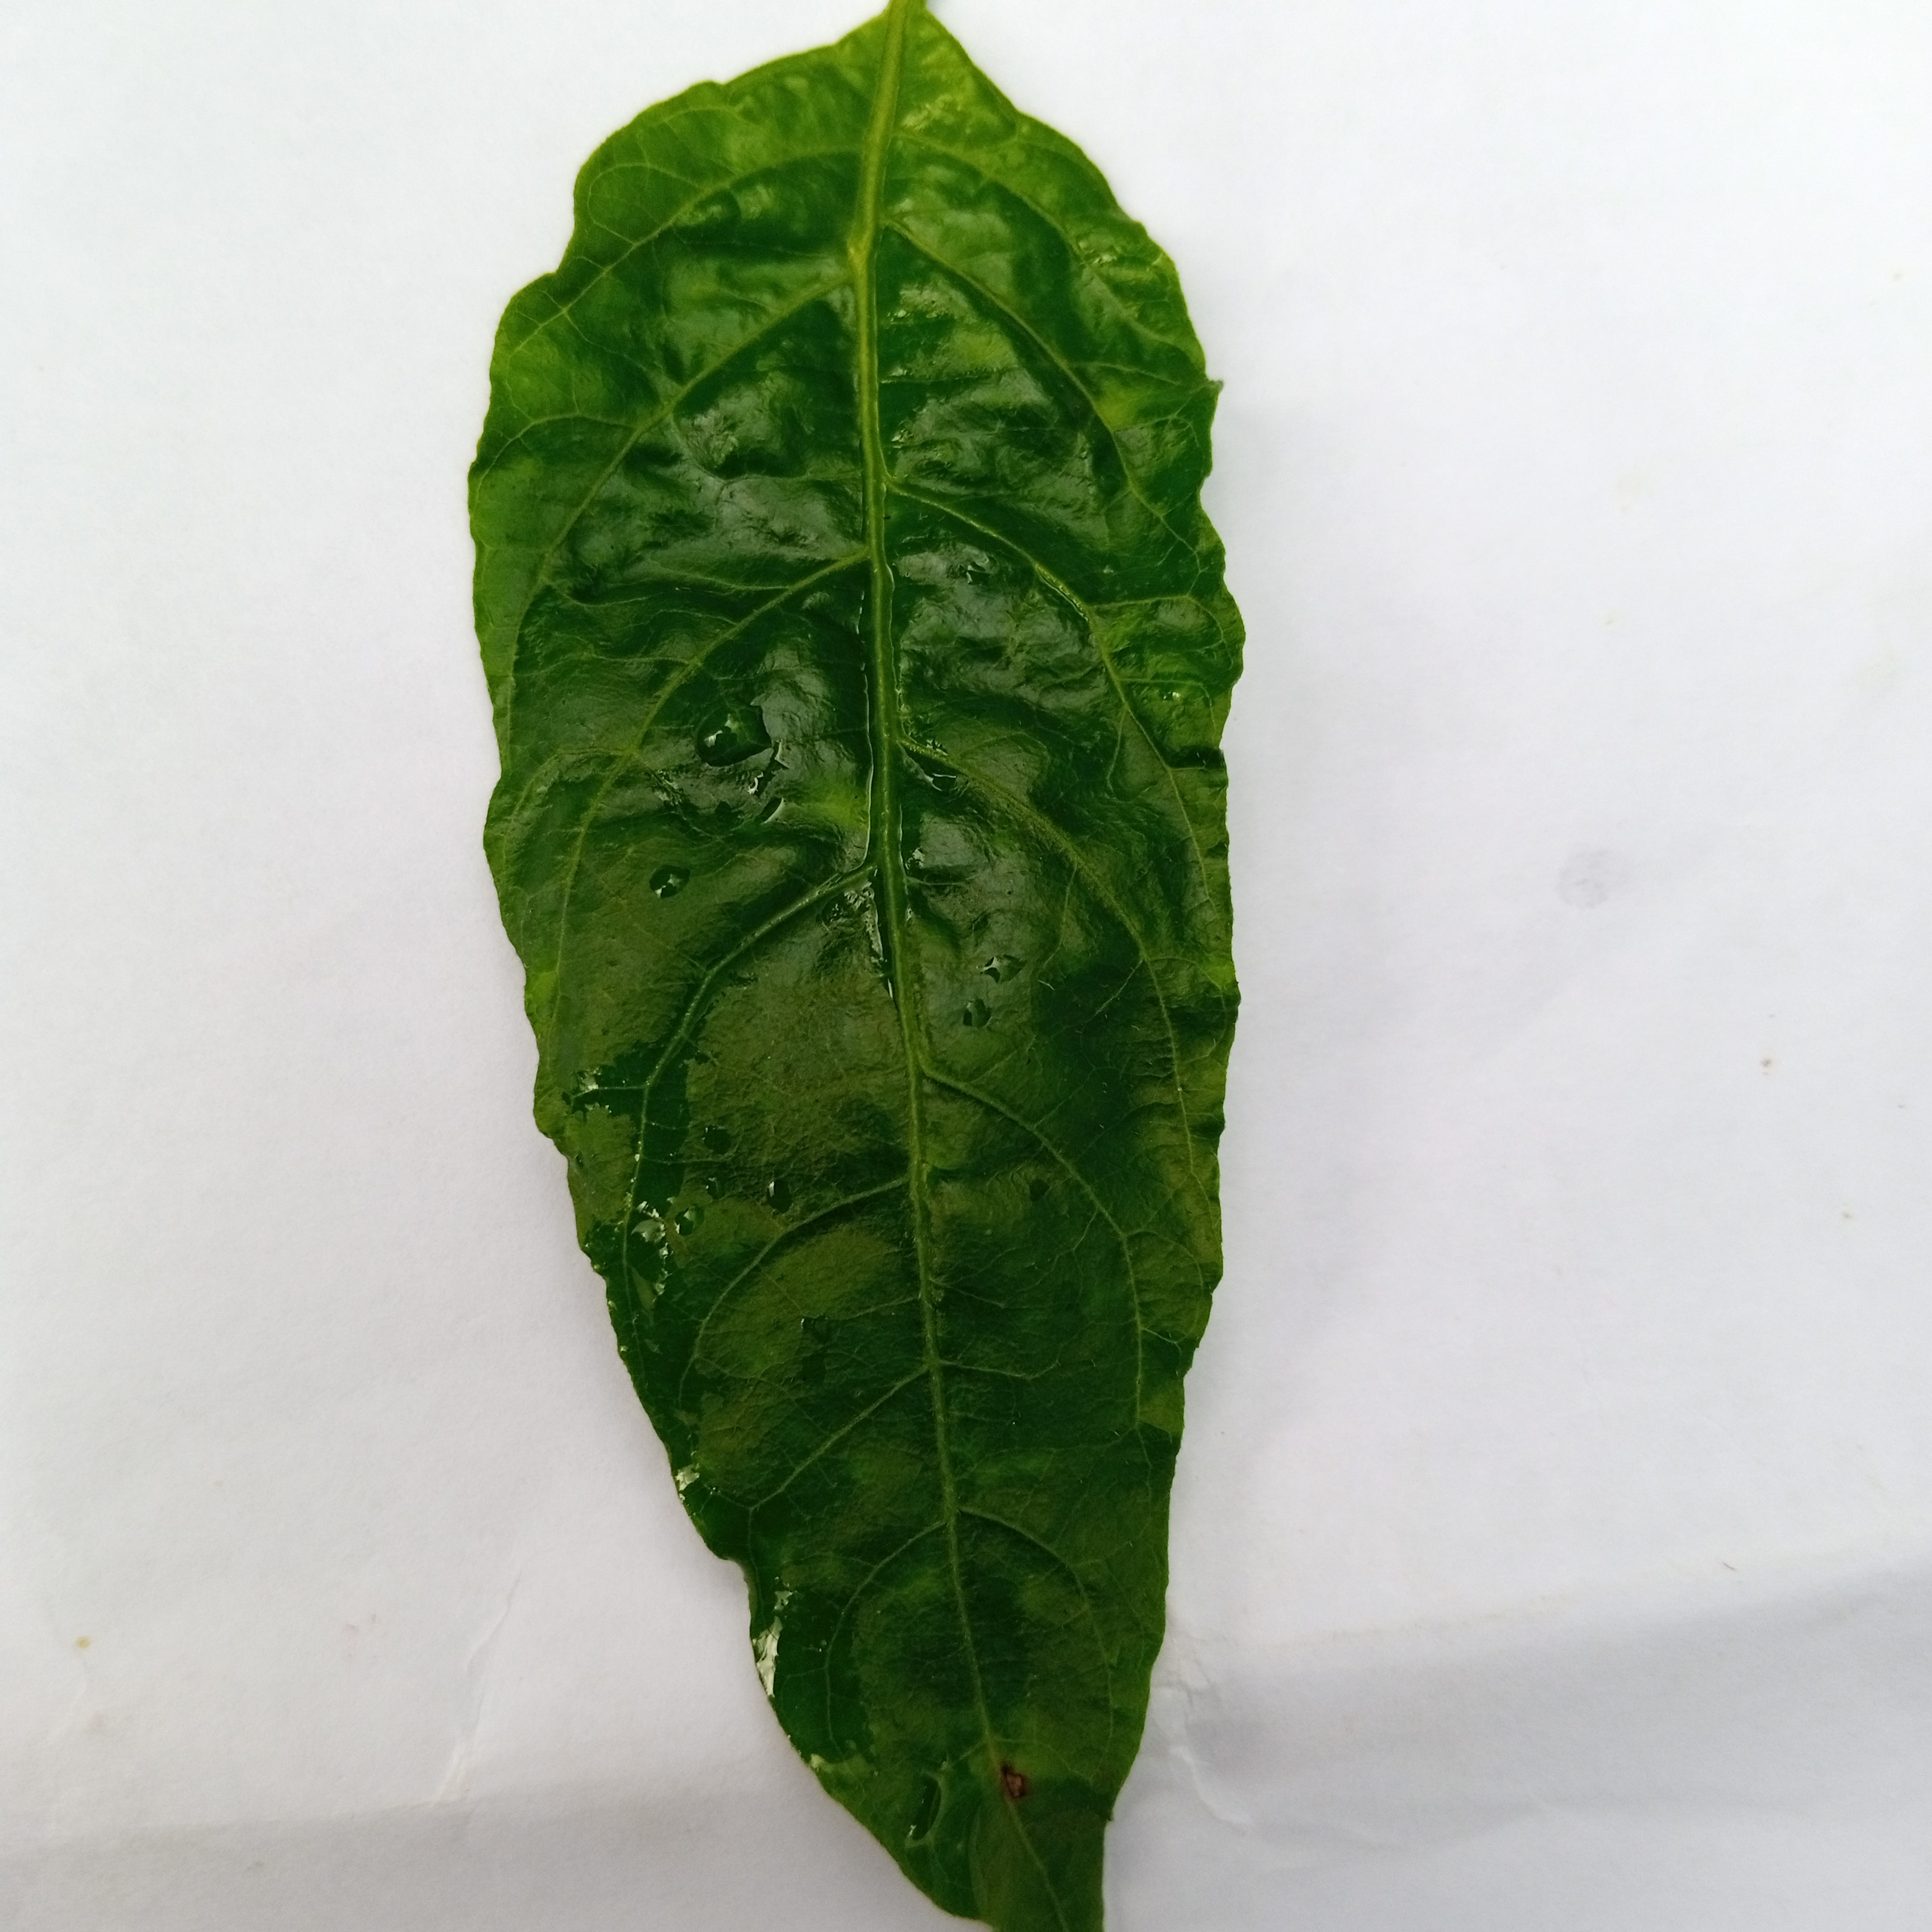Leaf: (341, 4, 1357, 1932)
